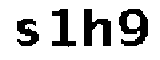1: (49, 7, 78, 51)
9: (116, 7, 150, 51)
h: (80, 7, 113, 50)
s: (13, 16, 41, 49)
